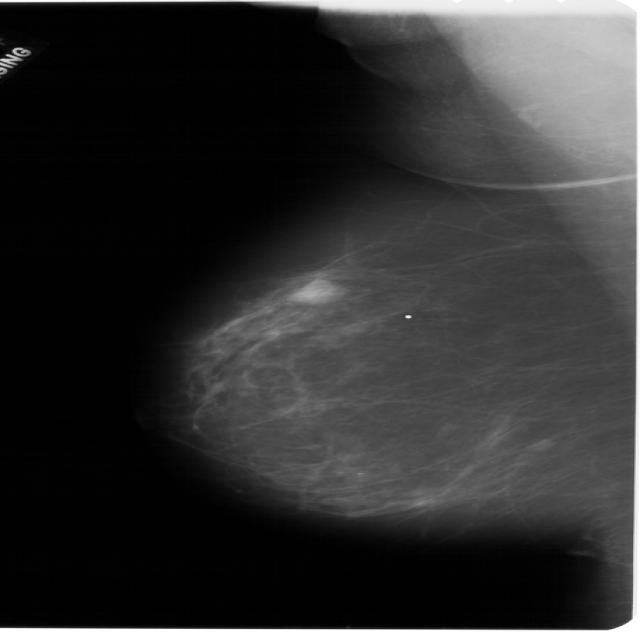tumour: (287, 277, 340, 303)
